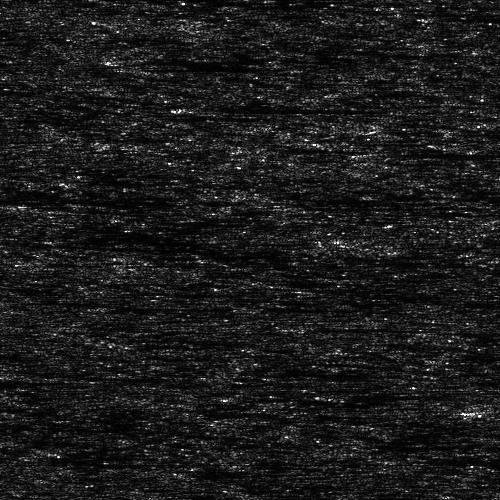object: (334, 142, 427, 163), (437, 407, 500, 416), (149, 104, 222, 109), (274, 324, 315, 329), (137, 61, 148, 70), (284, 204, 315, 207)
shadow: (381, 142, 500, 163), (143, 61, 256, 70), (186, 104, 359, 109), (295, 324, 425, 329), (300, 204, 490, 207), (0, 376, 12, 385), (436, 15, 500, 16)
